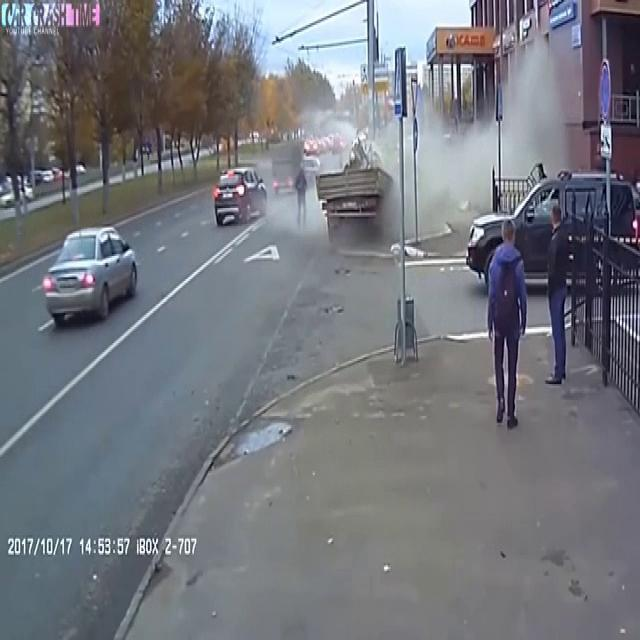accident: (313, 115, 417, 238)
